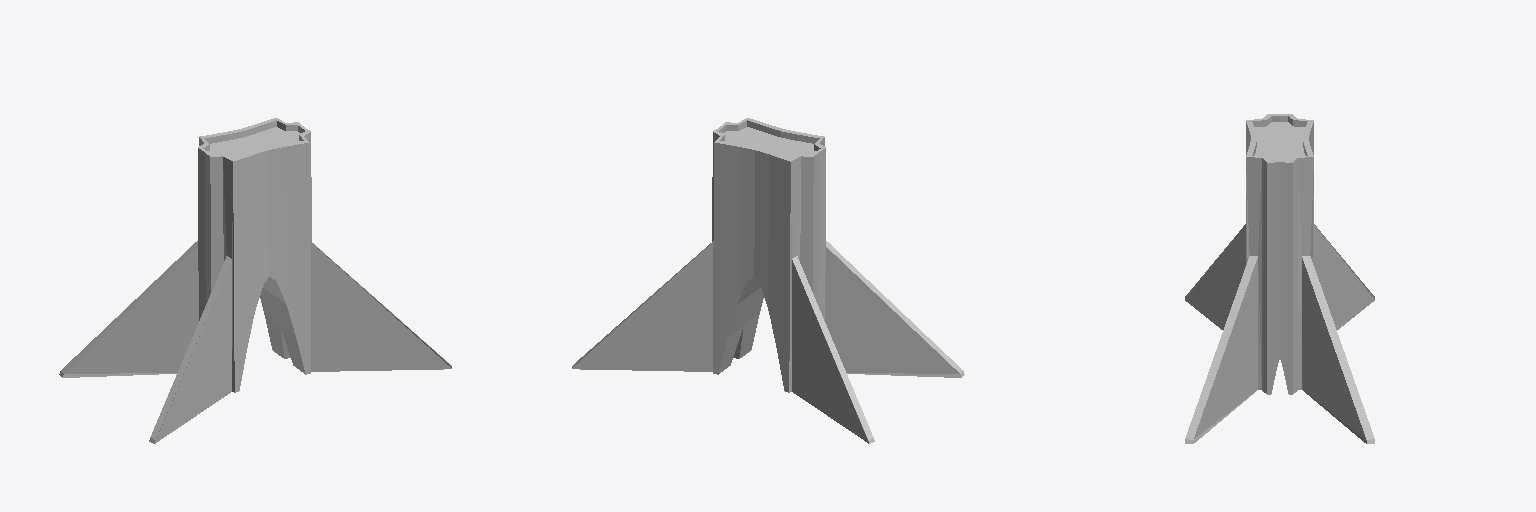
The model's file is azadi square.obj.
3 renders of one model, left to right at view 1: azimuth 30°, elevation 25°; view 2: azimuth 150°, elevation 25°; view 3: azimuth 270°, elevation 25°, orthographic.
Visible parts, largest first — view 1: Line003; view 2: Line003; view 3: Line003.
Boxes of the visible parts, box(x1,y1,x2,y2) form: Line003: box(59, 118, 451, 443); Line003: box(572, 118, 964, 443); Line003: box(1185, 114, 1374, 443).
Bounding box in the file's own units: 544 × 405 × 298.